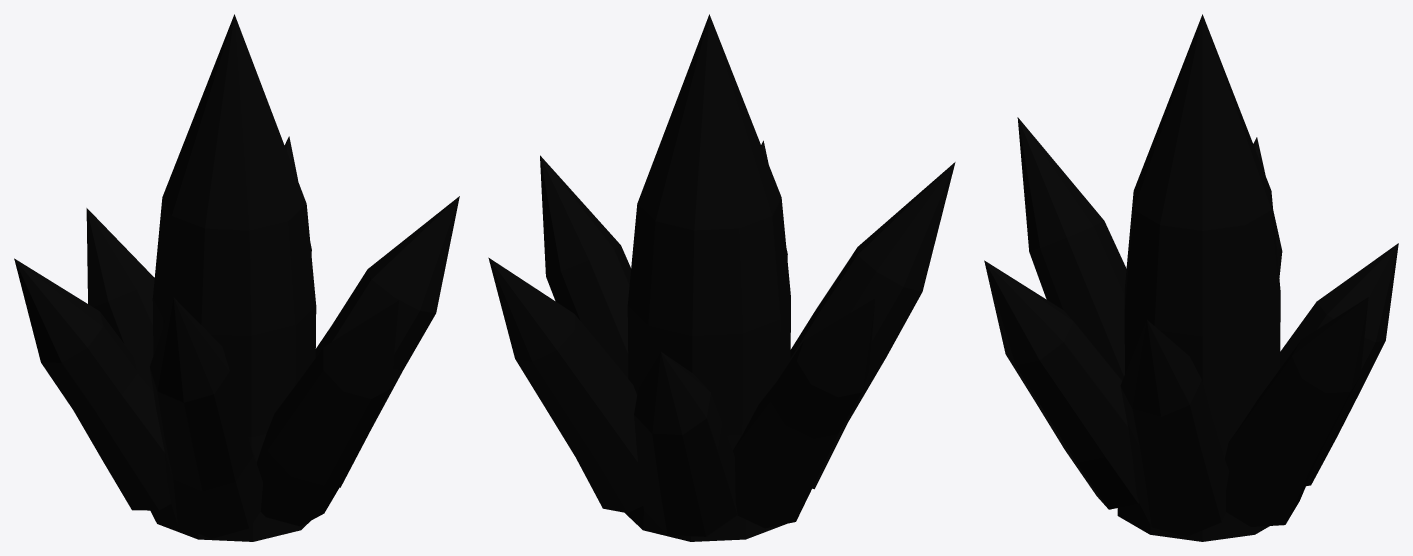
The model's file is earth-master.glb.
3 views of the same model, side by side, from view 1: azimuth 30°, elevation 25°; view 2: azimuth 150°, elevation 25°; view 3: azimuth 270°, elevation 25° (orthographic).
Visible parts, largest first — view 1: earth-master; view 2: earth-master; view 3: earth-master.
Boxes of the visible parts, x1,y1,x2,y2 form: earth-master: (14, 14, 459, 541); earth-master: (488, 14, 955, 541); earth-master: (984, 14, 1398, 541).
Bounding box in the file's own units: 0.2831 × 0.34 × 0.2606.
Materials: 1 (1 with a texture image).
